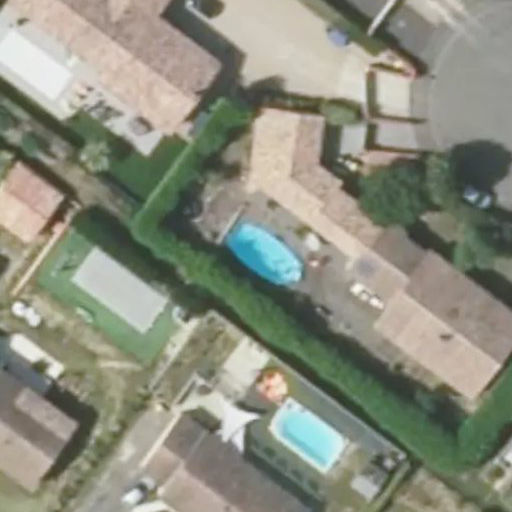pool: (214, 236, 302, 251)
